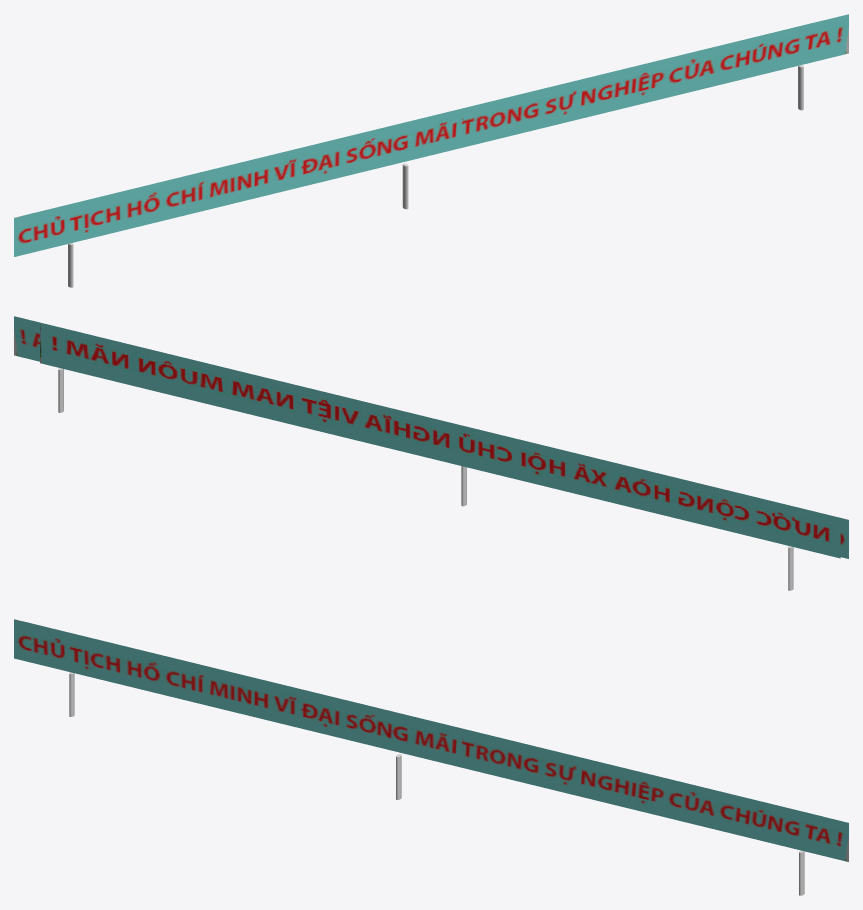
File: banner3.glb
3 views of the same model, one above another, from view 1: azimuth 30°, elevation 25°; view 2: azimuth 150°, elevation 25°; view 3: azimuth 330°, elevation 25° (orthographic).
Parts seen in each view (by area): view 1: Screenshot 2023-11-29 163435; view 2: Screenshot 2023-11-28 154038, Screenshot 2023-11-29 163435; view 3: Screenshot 2023-11-29 163435.
Boxes of the visible parts, x1,y1,x2,y2 form: Screenshot 2023-11-29 163435: [14, 14, 848, 256]; Screenshot 2023-11-28 154038: [40, 324, 840, 558]; Screenshot 2023-11-29 163435: [14, 316, 848, 558]; Screenshot 2023-11-29 163435: [14, 619, 848, 861].
Bounding box in the file's own units: 22.24 × 2.12 × 0.3672.
2 materials, 2 textured.
